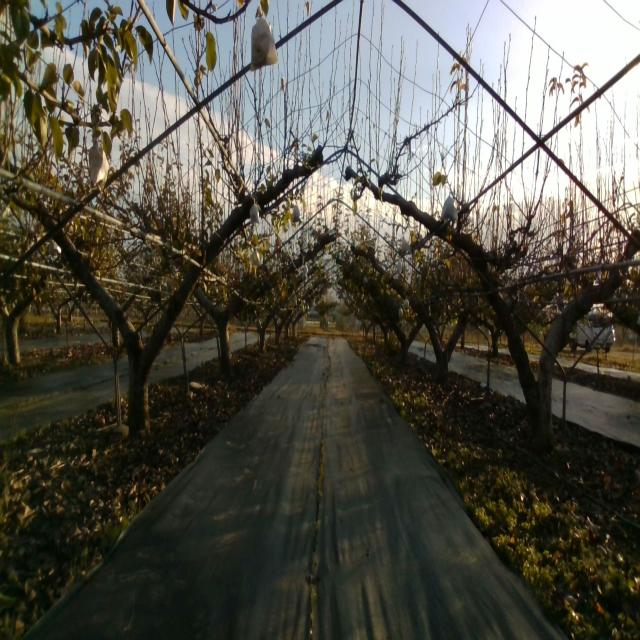pearbags: (249, 5, 278, 72), (89, 147, 109, 191), (440, 195, 458, 225), (248, 197, 260, 224)
